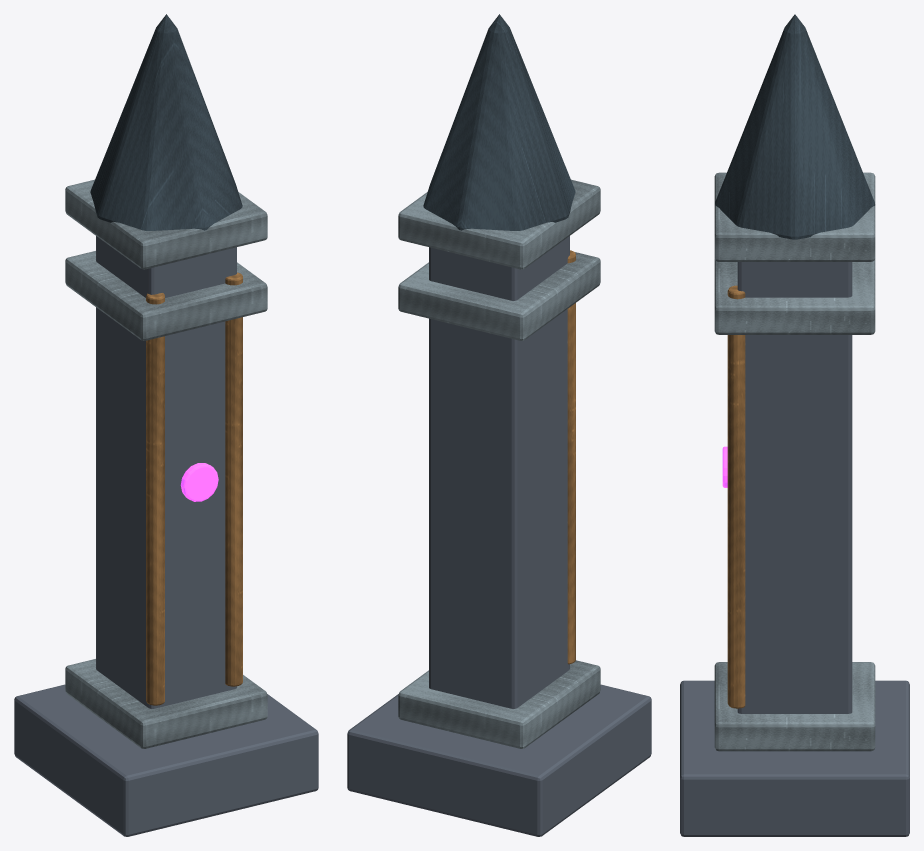
The model's file is buttress.glb.
3 views of the same model, side by side, from view 1: azimuth 30°, elevation 25°; view 2: azimuth 150°, elevation 25°; view 3: azimuth 270°, elevation 25° (orthographic). The views are drawn at different scales.
Visible parts, largest first — view 1: buttress; view 2: buttress; view 3: buttress.
Boxes of the visible parts, x1,y1,x2,y2 form: buttress: (14,14,318,836); buttress: (347,14,651,836); buttress: (680,14,909,836).
Size of the model in its own units: 2 by 7.45 by 2.
Materials: 5 (3 with a texture image).
